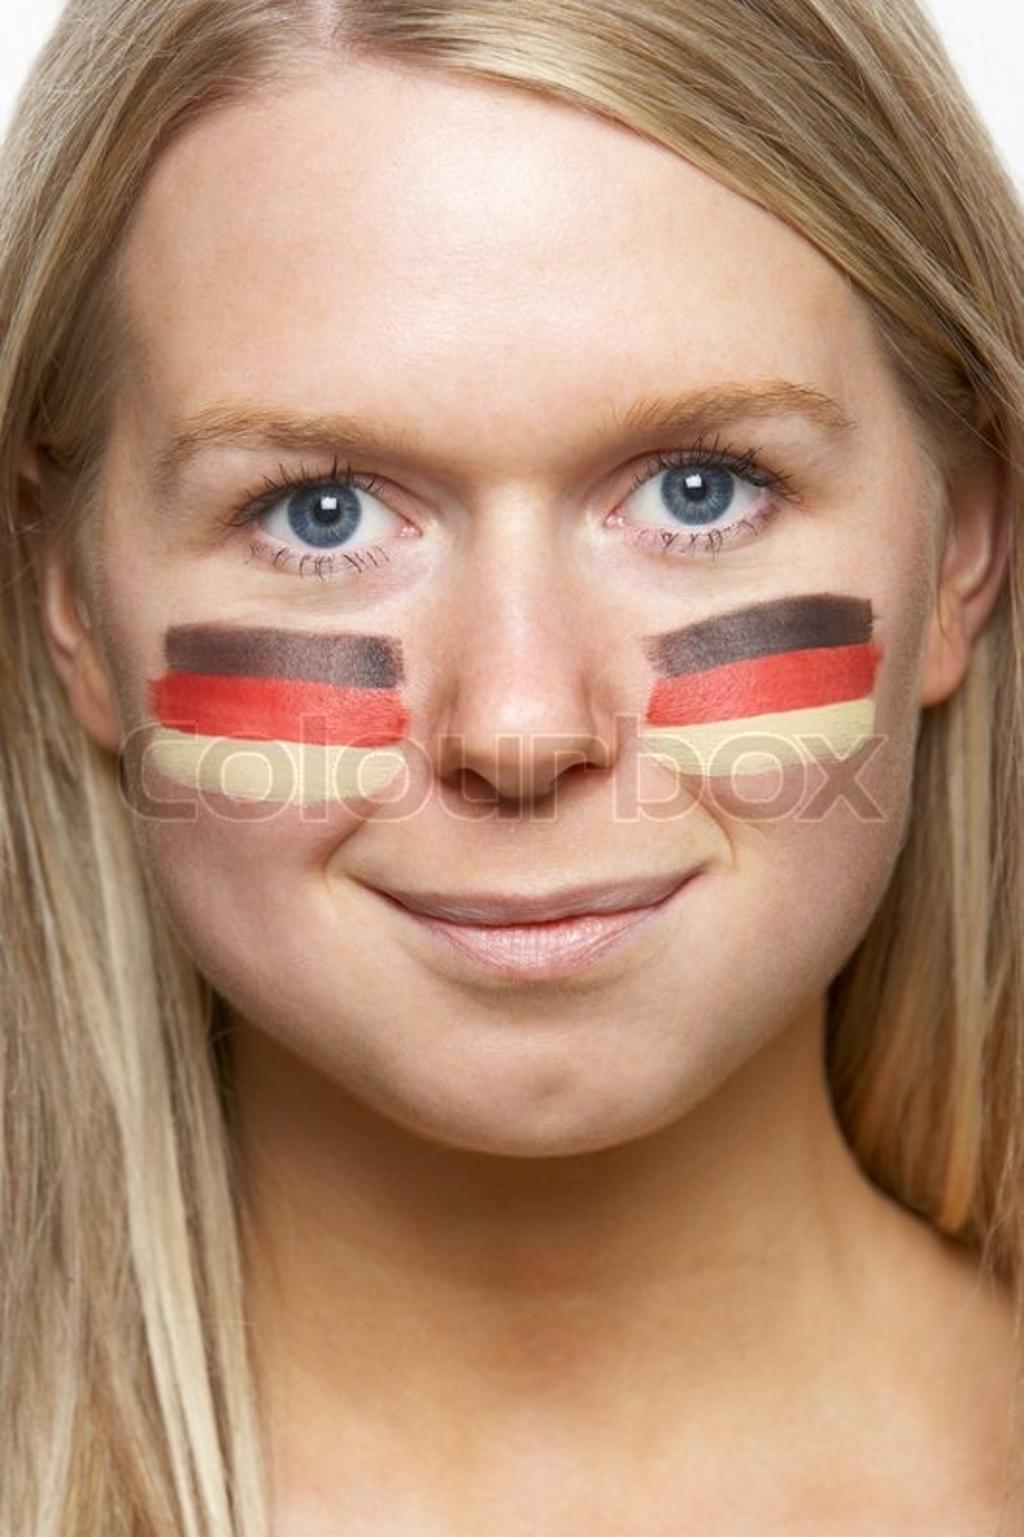face: (90, 129, 916, 1153)
